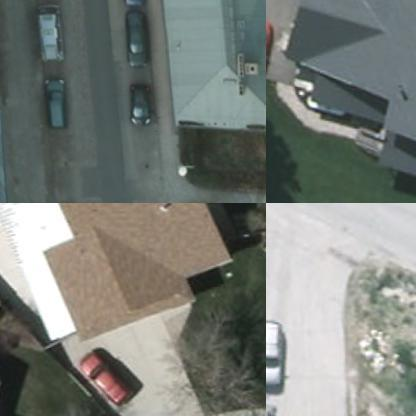car: (77, 351, 136, 415), (123, 13, 153, 68), (41, 77, 71, 131), (130, 84, 156, 126), (266, 16, 277, 84)
pickup: (266, 315, 283, 388)
van: (36, 8, 66, 63)
